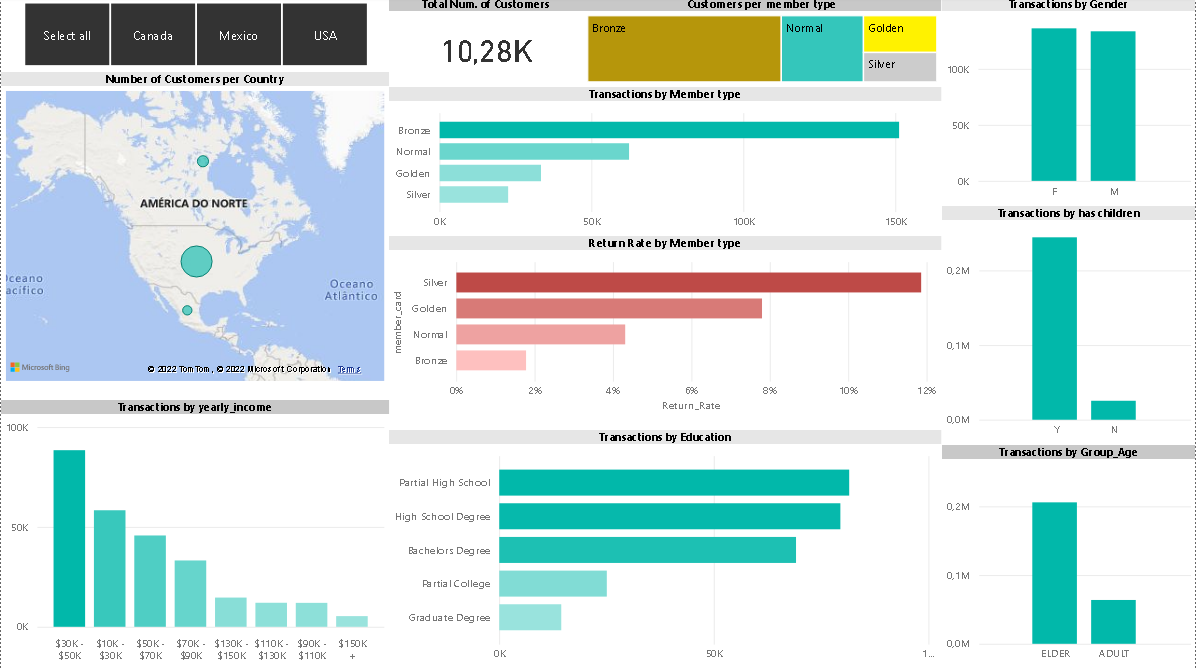

What the dashboard file says about the page in this screenshot:
{"tool":"powerbi","page":{"name":"Customer Profile","canvas":[1280,720],"ordinal":1},"visuals":[{"type":"columnChart","title":"Transactions by has children","fields":{"Category":["Customers.has children"],"Y":["Transaction_Data.Total_Transactions"]},"box":[1008,224,272,256],"z":0},{"type":"clusteredBarChart","title":"Transactions by Member type","fields":{"Category":["Customers.member_card"],"Y":["Transaction_Data.Total_Transactions"]},"box":[416,96,592,160],"z":1000},{"type":"columnChart","title":"Transactions by Gender","fields":{"Category":["Customers.gender"],"Y":["Transaction_Data.Total_Transactions"]},"box":[1008,0,272,224],"z":2000},{"type":"clusteredBarChart","title":"Return Rate by Member type","fields":{"Category":["Customers.member_card"],"Y":["Returns_Data.Return_Rate"]},"box":[416,256,592,192],"z":3000},{"type":"map","title":"Number of Customers per Country","fields":{"Category":["Customers.Country/Region"],"Size":["CountNonNull(Customers.customer_acct_num)"]},"box":[0,80,416,336],"z":4000},{"type":"slicer","fields":{"Values":["Stores.Country"]},"box":[0,0,416,80],"z":5000},{"type":"clusteredBarChart","title":"Transactions by Education","fields":{"Category":["Customers.education"],"Y":["Transaction_Data.Total_Transactions"]},"box":[416,464,592,256],"z":6000},{"type":"columnChart","title":"Transactions by yearly_income","fields":{"Category":["Customers.yearly_income"],"Y":["Transaction_Data.Total_Transactions"]},"box":[0,432,416,288],"z":7000},{"type":"columnChart","title":"Transactions by Group_Age","fields":{"Category":["Customers.Group_Age"],"Y":["Transaction_Data.Total_Transactions"]},"box":[1008,480,272,240],"z":8000},{"type":"card","title":"Total Num. of Customers","fields":{"Values":["Count(Customers.customer_id)"]},"box":[416,0,208,96],"z":8001},{"type":"treemap","title":"Customers per member type","fields":{"Group":["Customers.member_card"],"Values":["CountNonNull(Customers.member_card)"]},"box":[624,0,384,96],"z":8002}]}

Visuals, with their boxes in screenshot pixels (x1, y1, x2, y2), scaled from the page's 1280x720 canvas onto the 1196x669 screenshot:
"Transactions by has children" columnChart: bbox=(942, 208, 1195, 446)
"Transactions by Member type" clusteredBarChart: bbox=(389, 89, 942, 238)
"Transactions by Gender" columnChart: bbox=(942, 0, 1195, 208)
"Return Rate by Member type" clusteredBarChart: bbox=(389, 238, 942, 416)
"Number of Customers per Country" map: bbox=(0, 74, 389, 387)
slicer - Stores.Country: bbox=(0, 0, 389, 74)
"Transactions by Education" clusteredBarChart: bbox=(389, 431, 942, 668)
"Transactions by yearly_income" columnChart: bbox=(0, 401, 389, 668)
"Transactions by Group_Age" columnChart: bbox=(942, 446, 1195, 668)
"Total Num. of Customers" card: bbox=(389, 0, 583, 89)
"Customers per member type" treemap: bbox=(583, 0, 942, 89)
